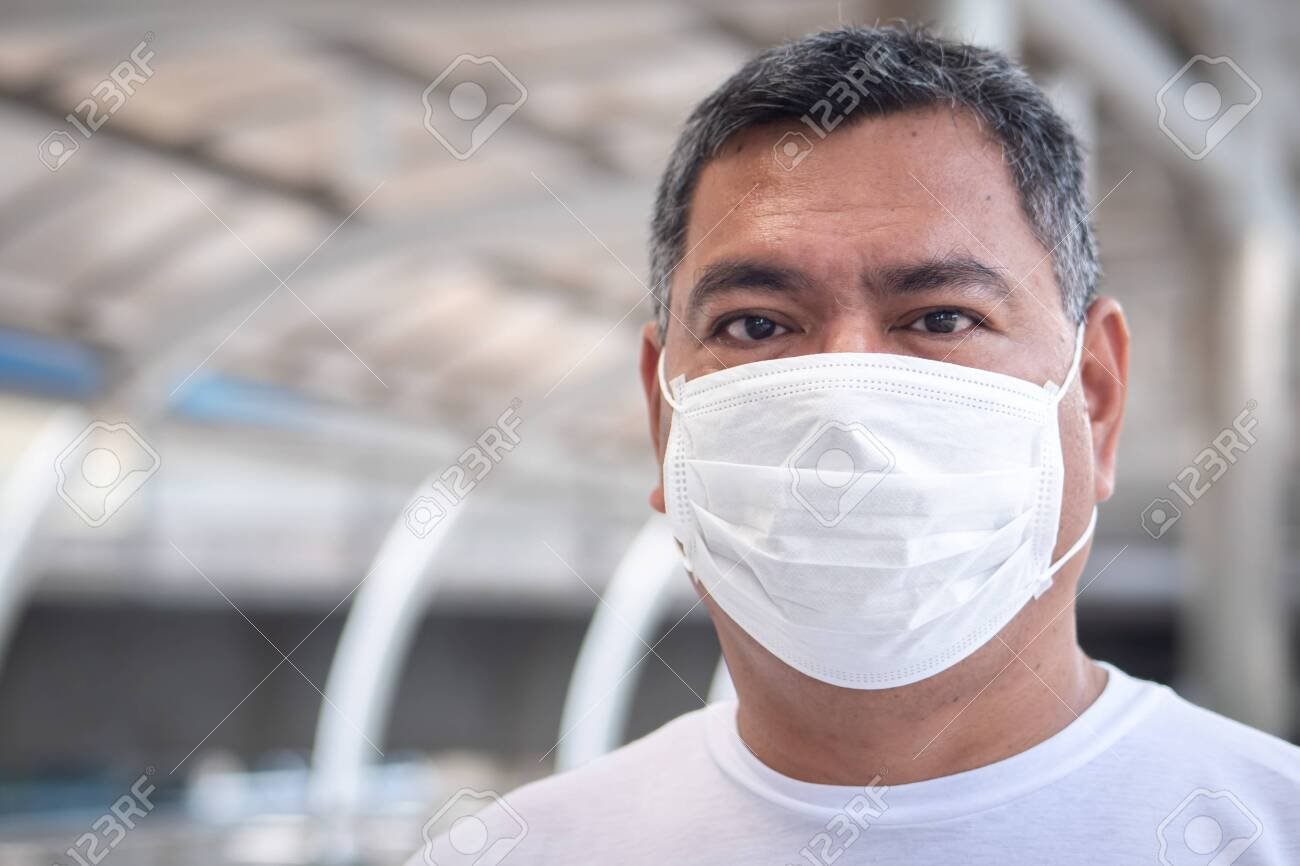mask: (596, 34, 1133, 691)
